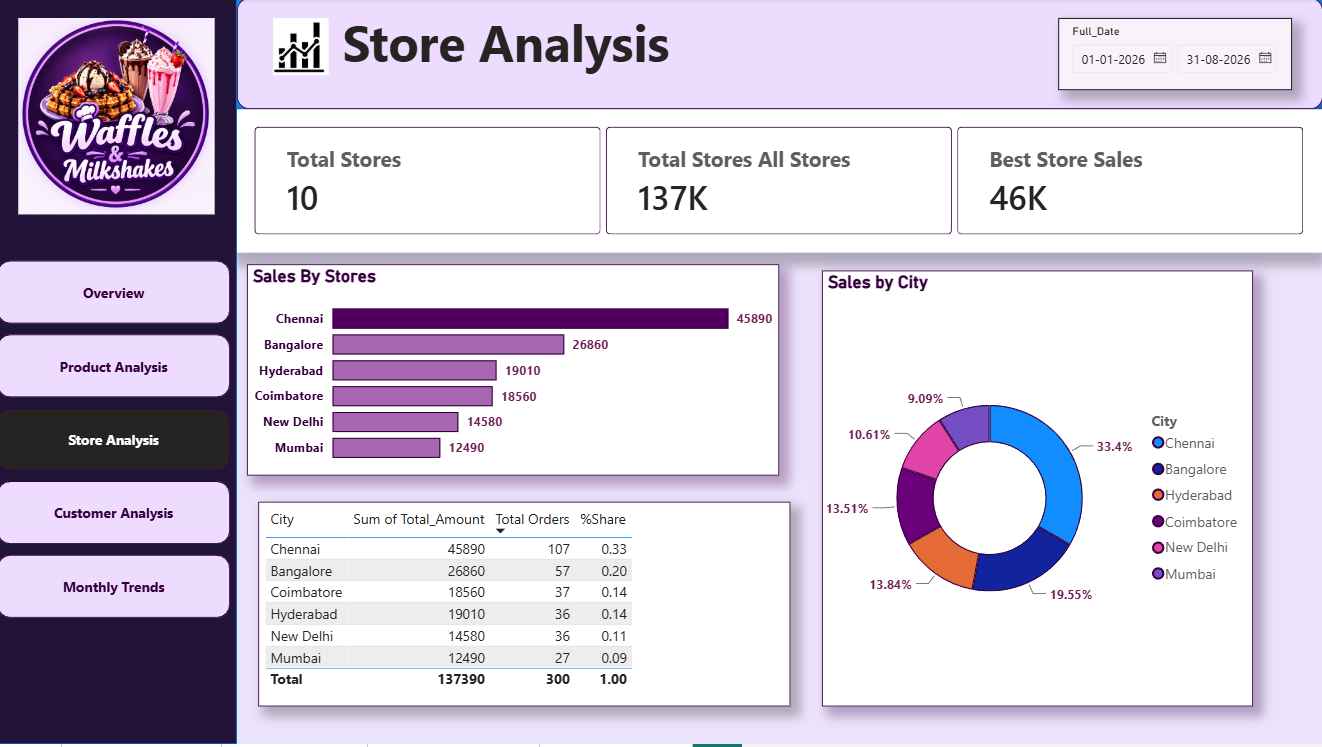

The dashboard page shown, as its layout file describes it:
{"tool":"powerbi","page":{"name":"Store Analysis","canvas":[1280,720],"ordinal":2},"visuals":[{"type":"shape","box":[230.8,0,1049.2,107.6],"z":0},{"type":"textbox","box":[231.6,0,1048.4,107.4],"z":1000},{"type":"cardVisual","title":"Total Orders","fields":{"Data":["DIM_STORE.Total Stores","FACT_SALES.Total Stores All Stores","FACT_SALES.Best Store Sales"]},"box":[231.6,107.4,1048.4,138.7],"z":2000},{"type":"shape","box":[0,0,231.6,720.2],"z":3000},{"type":"clusteredBarChart","title":"Sales By Stores","fields":{"Category":["DIM_STORE.City"],"Y":["Sum(FACT_SALES.Total_Amount)"]},"box":[241.3,257,513.9,203.9],"z":4000},{"type":"tableEx","fields":{"Values":["DIM_STORE.City","Sum(FACT_SALES.Total_Amount)","DIM_STORE.Total Orders","FACT_SALES.%Share"]},"box":[252.1,486.2,513.9,197.9],"z":5000},{"type":"actionButton","box":[29,88.1,100.1,39.8],"z":6000},{"type":"donutChart","title":"Sales by City","fields":{"Category":["DIM_STORE.City"],"Y":["Sum(FACT_SALES.Total_Amount)"]},"box":[796.3,263,416.2,421],"z":7000},{"type":"pageNavigator","box":[0,253.4,225.6,347.5],"z":8000},{"type":"slicer","fields":{"Values":["DIM_DATE.Full_Date"]},"box":[1023.7,19.5,226,69.6],"z":9000},{"type":"image","box":[254.6,19.3,77.2,55.5],"z":10000},{"type":"image","box":[18.1,19.3,194.2,189.4],"z":11000}]}

Visuals, with their boxes in screenshot pixels (x1, y1, x2, y2), scaled from the page's 1280x720 canvas onto the 1322x747 screenshot:
shape: (left=238, top=0, right=1321, bottom=112)
textbox: (left=239, top=0, right=1321, bottom=111)
"Total Orders" cardVisual: (left=239, top=111, right=1321, bottom=255)
shape: (left=0, top=0, right=239, bottom=746)
"Sales By Stores" clusteredBarChart: (left=249, top=267, right=780, bottom=478)
tableEx - DIM_STORE.City x Sum(FACT_SALES.Total_Amount): (left=260, top=504, right=791, bottom=710)
actionButton: (left=30, top=91, right=133, bottom=133)
"Sales by City" donutChart: (left=822, top=273, right=1252, bottom=710)
pageNavigator: (left=0, top=263, right=233, bottom=623)
slicer - DIM_DATE.Full_Date: (left=1057, top=20, right=1291, bottom=92)
image: (left=263, top=20, right=343, bottom=78)
image: (left=19, top=20, right=219, bottom=217)
